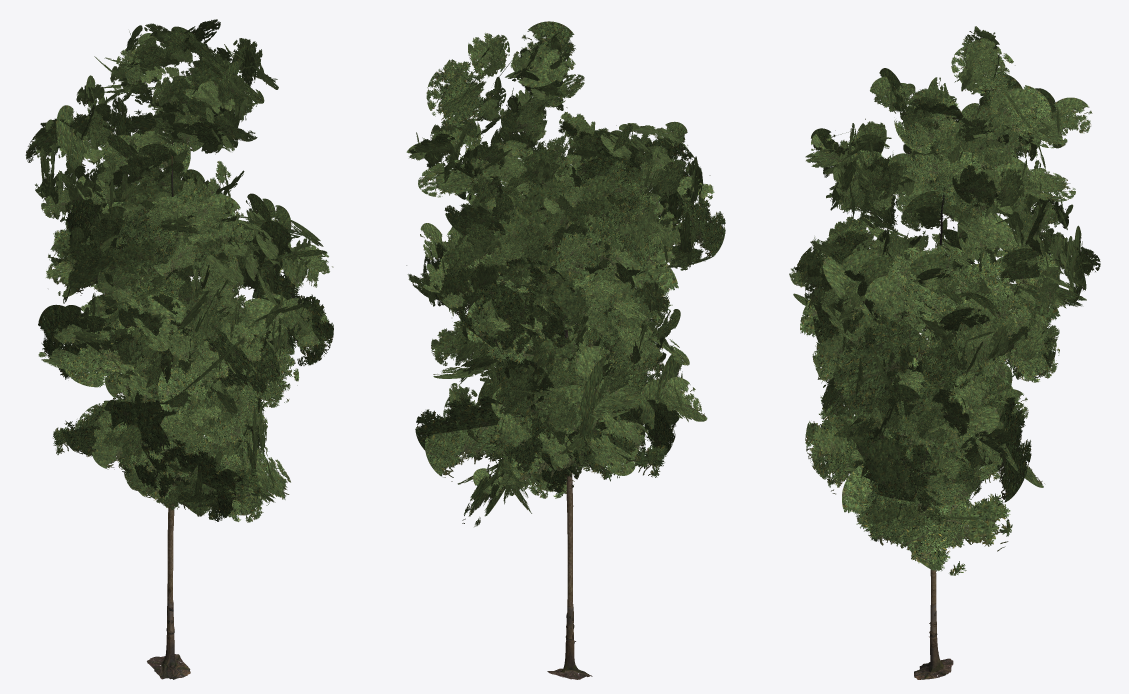
File: las_sosna_a.glb
The picture shows the model from 3 angles, left to right: view 1: azimuth 30°, elevation 25°; view 2: azimuth 150°, elevation 25°; view 3: azimuth 270°, elevation 25°; orthographic projection. The views are drawn at different scales.
Parts seen in each view (by area): view 1: liscie_1, liscie_0, liscie_2, pien; view 2: liscie_2, liscie_1, liscie_0, pien; view 3: liscie_2, liscie_1, liscie_0, pien.
Part boxes in pixels (<box>): liscie_1: <box>40,23,323,522</box>; liscie_0: <box>35,29,333,516</box>; liscie_2: <box>25,19,333,521</box>; pien: <box>147,141,190,679</box>; liscie_2: <box>415,21,725,526</box>; liscie_1: <box>406,32,714,503</box>; liscie_0: <box>406,36,702,504</box>; pien: <box>547,328,592,679</box>; liscie_2: <box>793,38,1086,575</box>; liscie_1: <box>795,30,1095,548</box>; liscie_0: <box>789,26,1100,543</box>; pien: <box>914,188,953,679</box>.
Size of the model in its own units: 10.03 by 20.81 by 9.99.
Materials: 2 (2 with a texture image).
